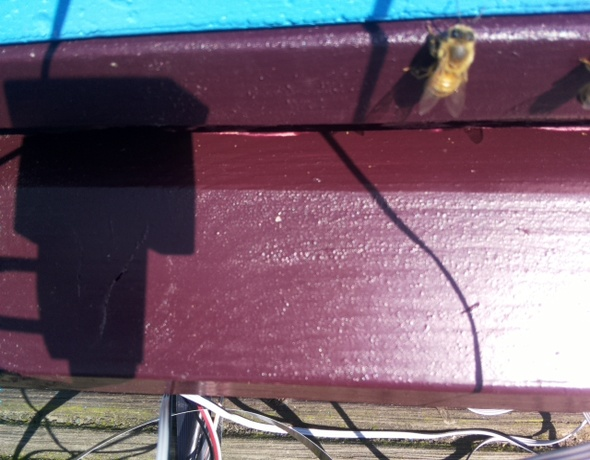no_pollen: (416, 19, 482, 104)
